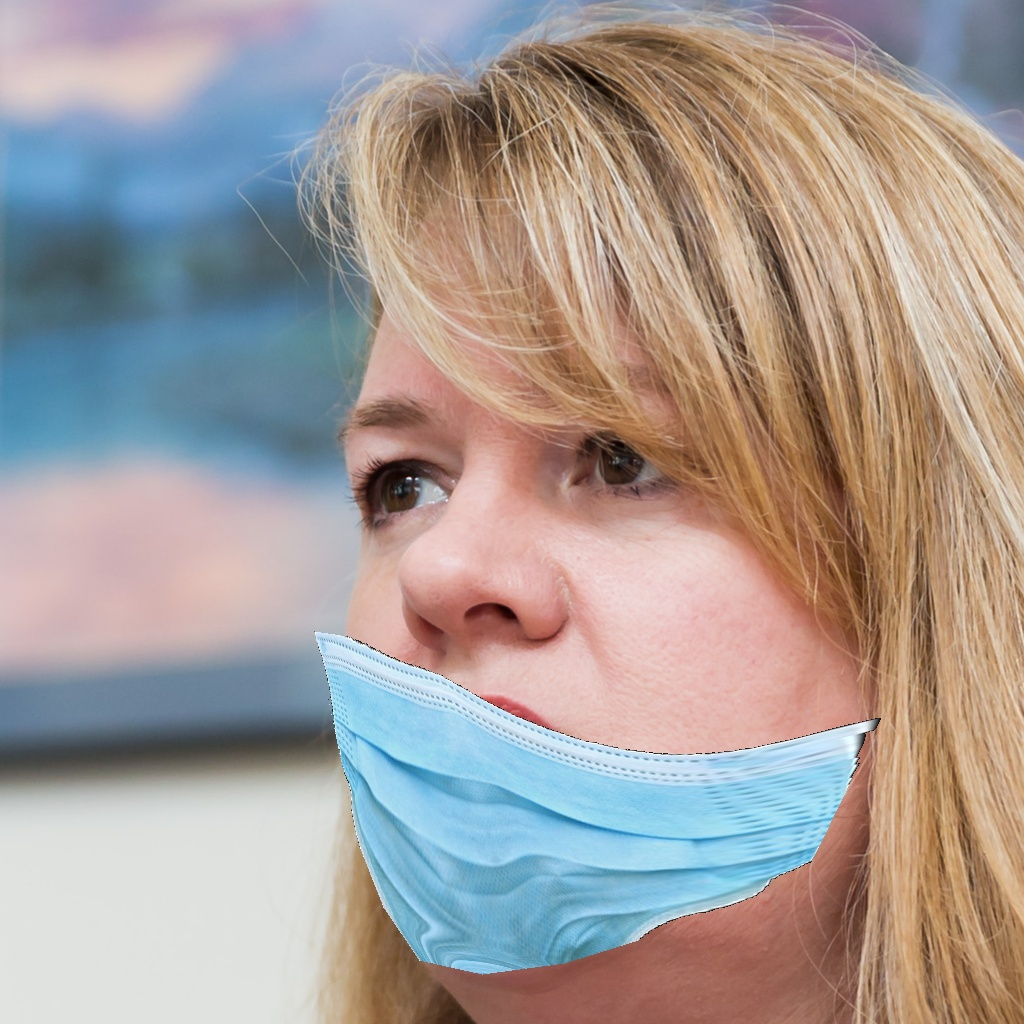mascarilla_mal_puesta: (322, 303, 854, 943)
